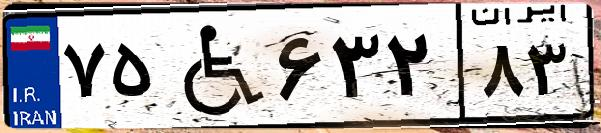2: (385, 28, 445, 110)
3: (330, 28, 385, 110), (525, 38, 570, 115)
5: (110, 28, 158, 98)
6: (270, 28, 330, 110)
7: (57, 26, 110, 100)
8: (475, 38, 525, 113)
ژ (معلولین و جانبازان): (158, 12, 270, 120)
